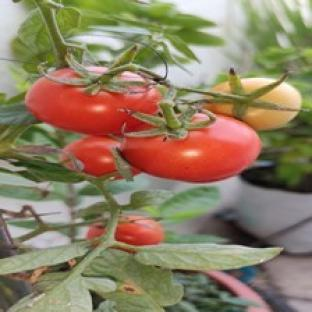Tomato: (122, 116, 261, 182), (26, 77, 161, 135), (62, 137, 119, 176), (116, 215, 164, 245), (241, 106, 298, 130)
